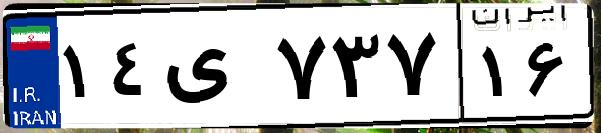1: (57, 26, 110, 100), (475, 38, 525, 113)
3: (330, 28, 385, 110)
4: (110, 28, 158, 98)
6: (525, 38, 570, 115)
7: (270, 28, 330, 110), (385, 28, 445, 110)
ی: (158, 20, 270, 120)
